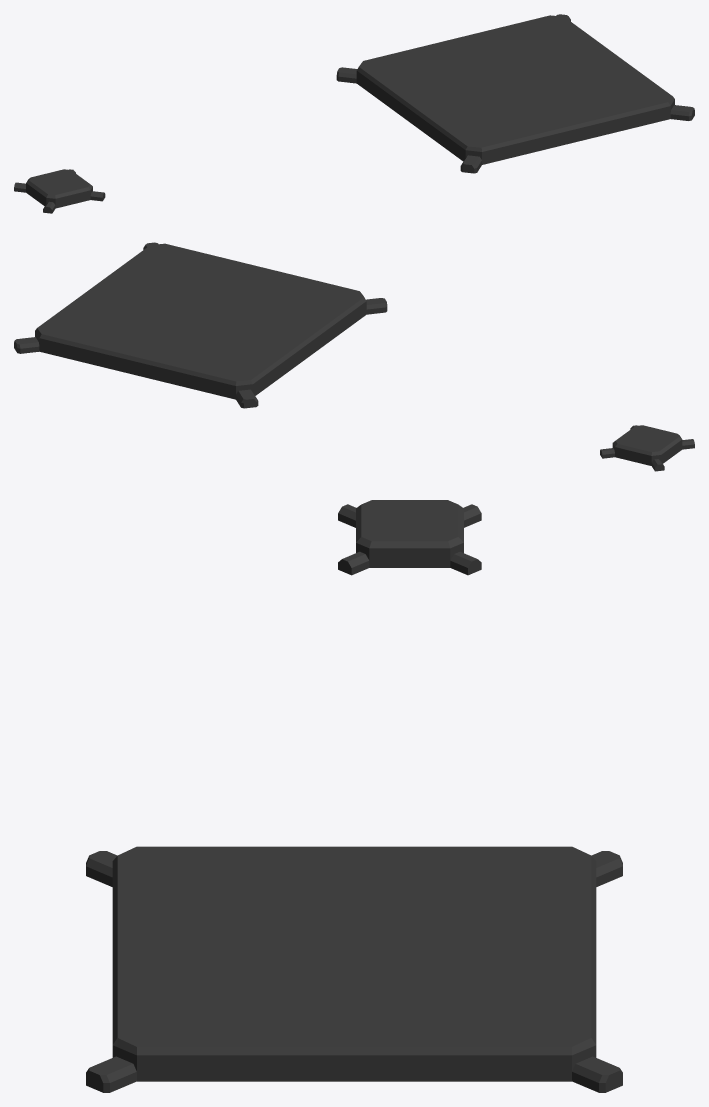
File: stand.fbx
3 views of the same model, one above another, from view 1: azimuth 30°, elevation 25°; view 2: azimuth 150°, elevation 25°; view 3: azimuth 270°, elevation 25° (orthographic). The views are drawn at different scales.
Visible parts, largest first — view 1: large_base, base_small; view 2: large_base, base_small; view 3: large_base, base_small.
Part boxes in pixels (bbox=[...]): large_base: bbox=[336, 14, 694, 173]; base_small: bbox=[14, 169, 105, 213]; large_base: bbox=[14, 242, 387, 408]; base_small: bbox=[600, 425, 694, 471]; large_base: bbox=[86, 846, 622, 1092]; base_small: bbox=[338, 500, 481, 575].
Bounding box in the file's own units: 252 × 6.67 × 99.53.
1 material, 1 textured.
